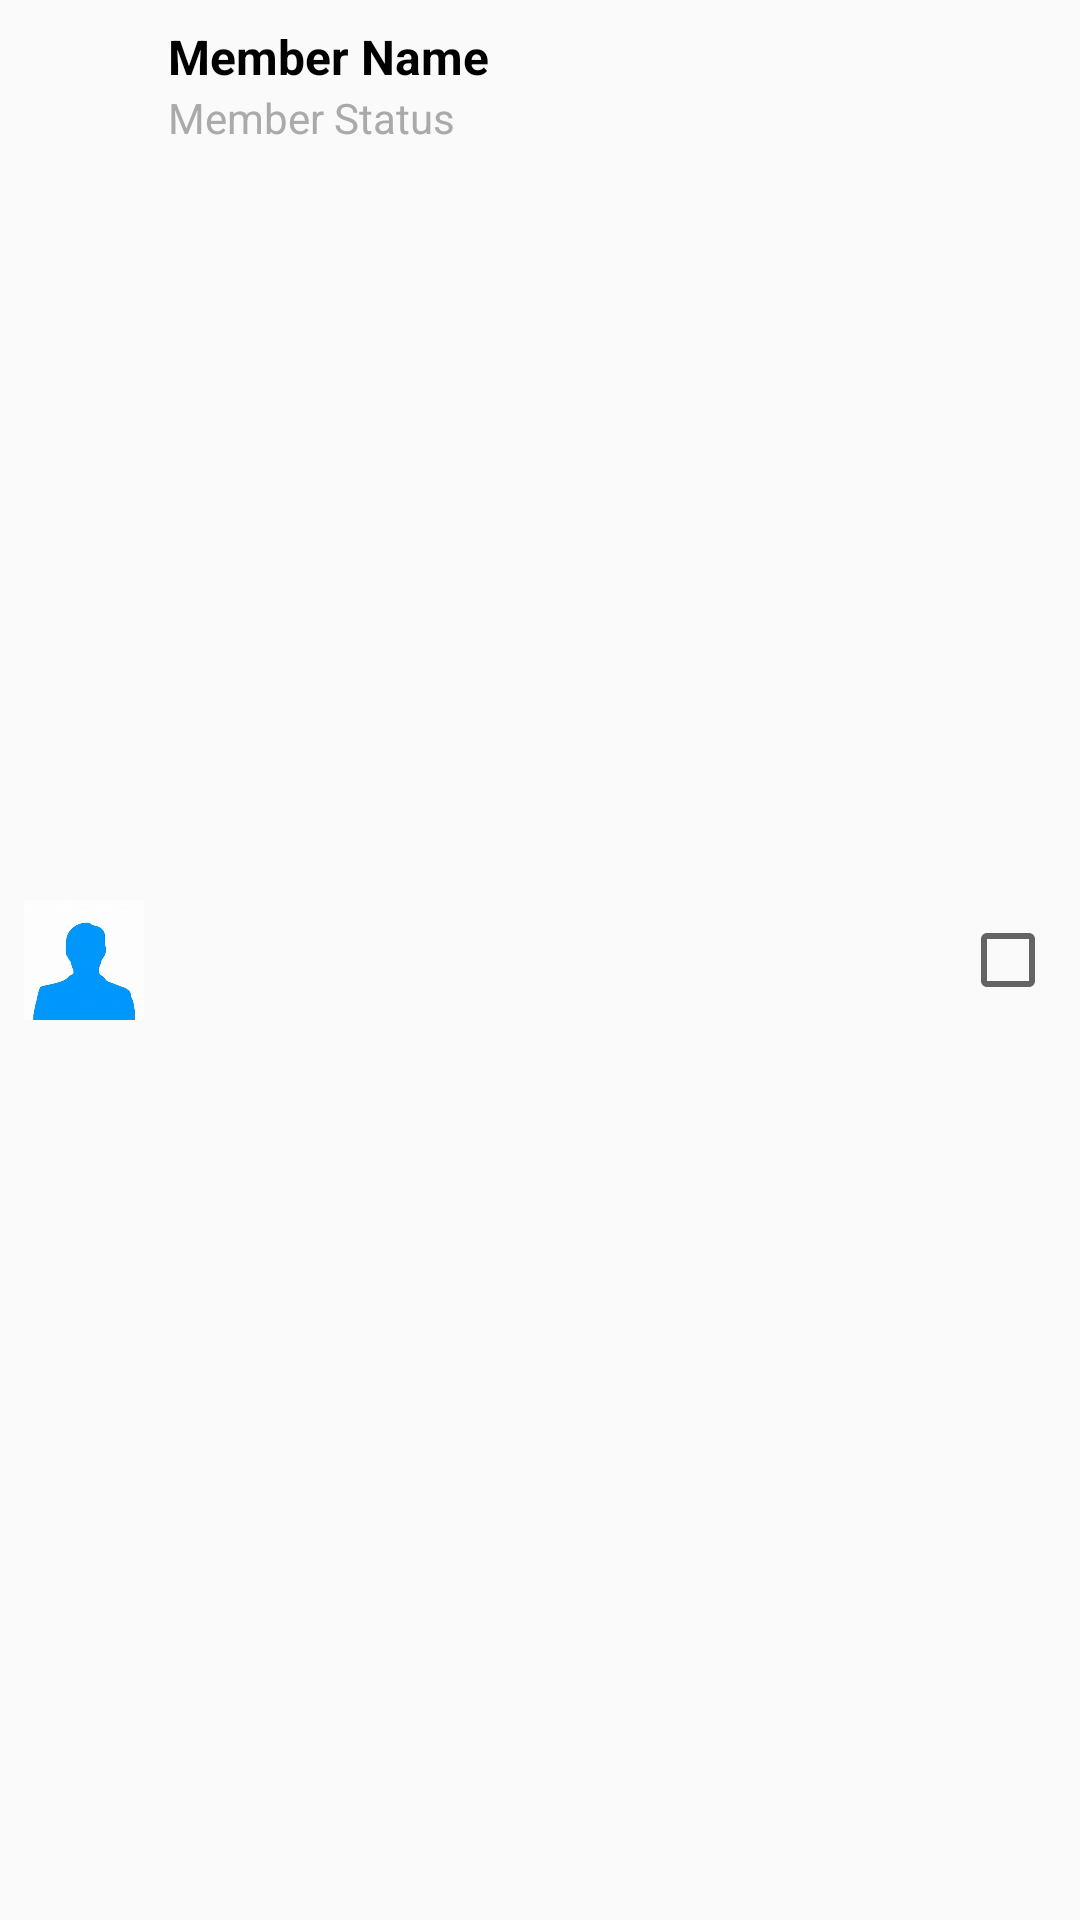

Screen size 1080x1920. Icon name, then its center in pixels as (x=x, y=y):
person: (x=84, y=971)
